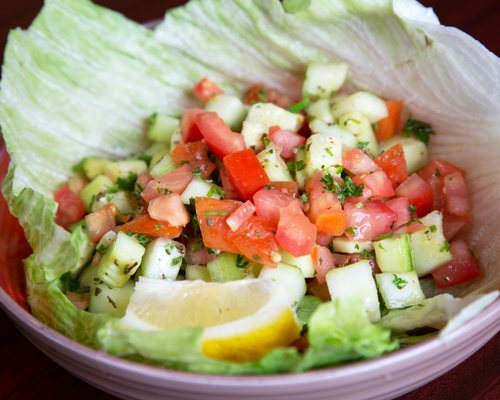sushi: (2, 1, 500, 397)
